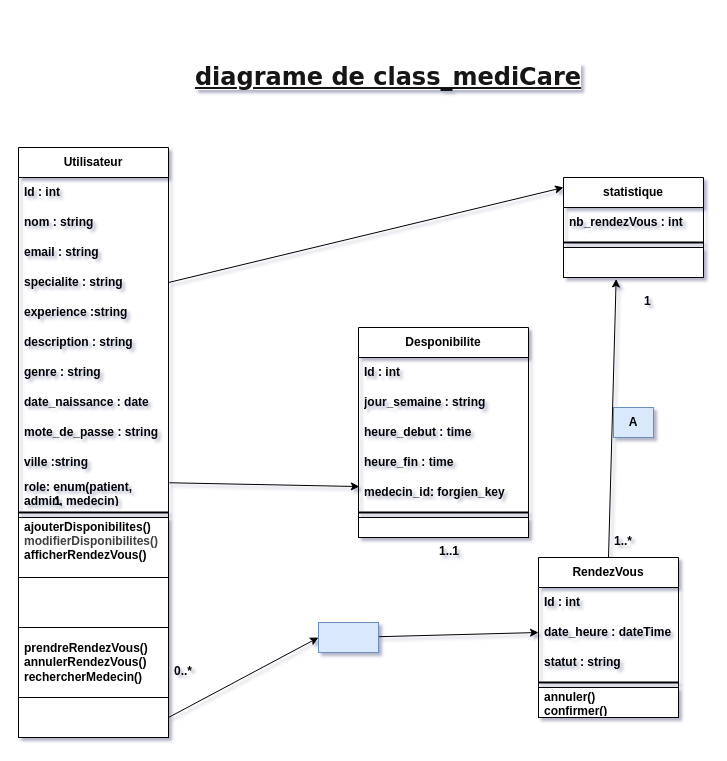
Some shapes in this 727 by 761 pixel diagram are drawn without their labels. The shapes that lost their labels are listed below. From the top down, each one's centre as x and y in pixels, then its label:
At point (633, 262): "generStatique()".
At point (93, 602): "S'inscrire() gererUtilisateurs() voirstatistique()".
At point (348, 637): "Prend".
At point (93, 717): "seConnecter() modifierProfil()".
